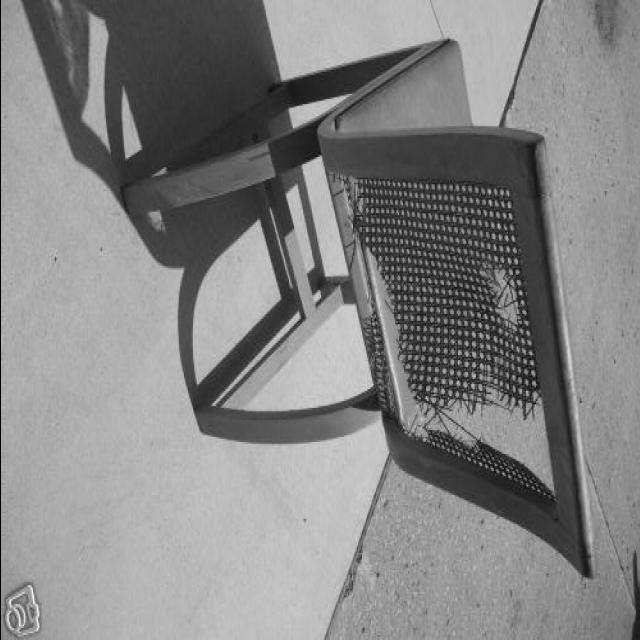chair: (113, 34, 597, 584)
